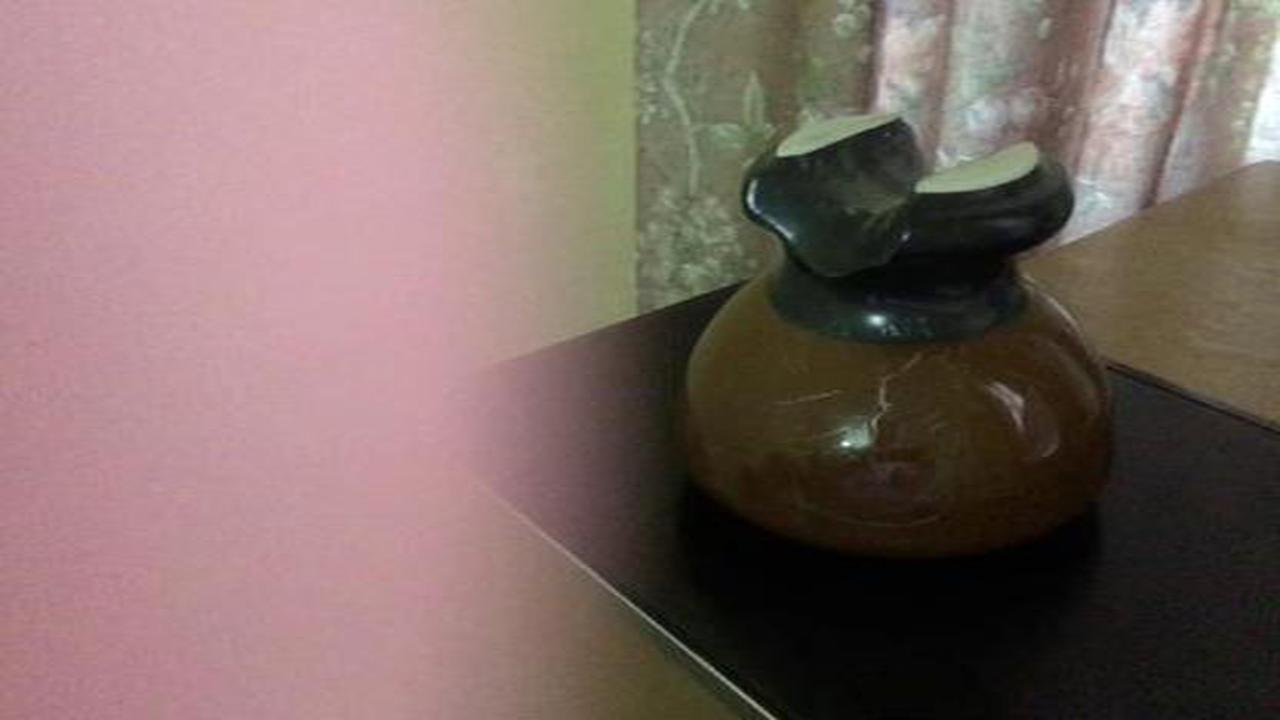insulator_pin: (653, 92, 1154, 573)
